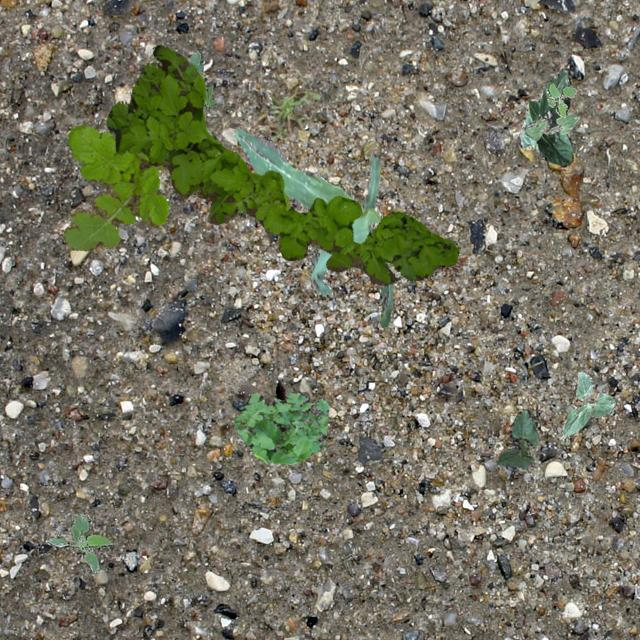crop: (234, 128, 392, 326), (516, 68, 572, 166), (560, 370, 616, 438), (494, 408, 538, 468), (524, 112, 578, 138)
weed: (106, 44, 458, 284), (62, 123, 168, 250), (232, 390, 328, 462), (44, 512, 112, 572), (266, 86, 320, 136), (186, 50, 214, 110), (546, 81, 576, 118)
